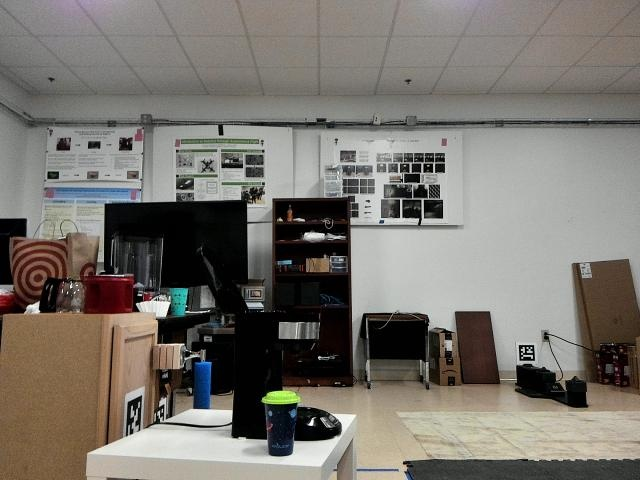coffee_cup: (165, 285, 191, 319)
noodle_handle: (190, 354, 214, 412)
useless_cup: (261, 388, 303, 456)
